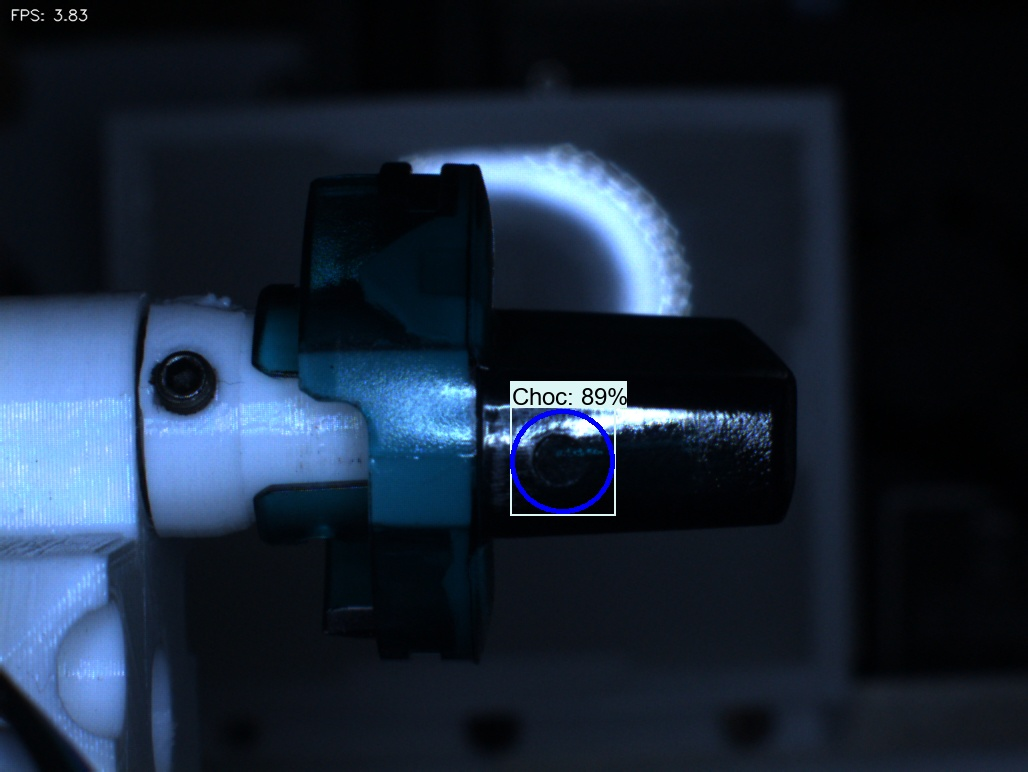DentOk: (337, 232, 408, 320)
